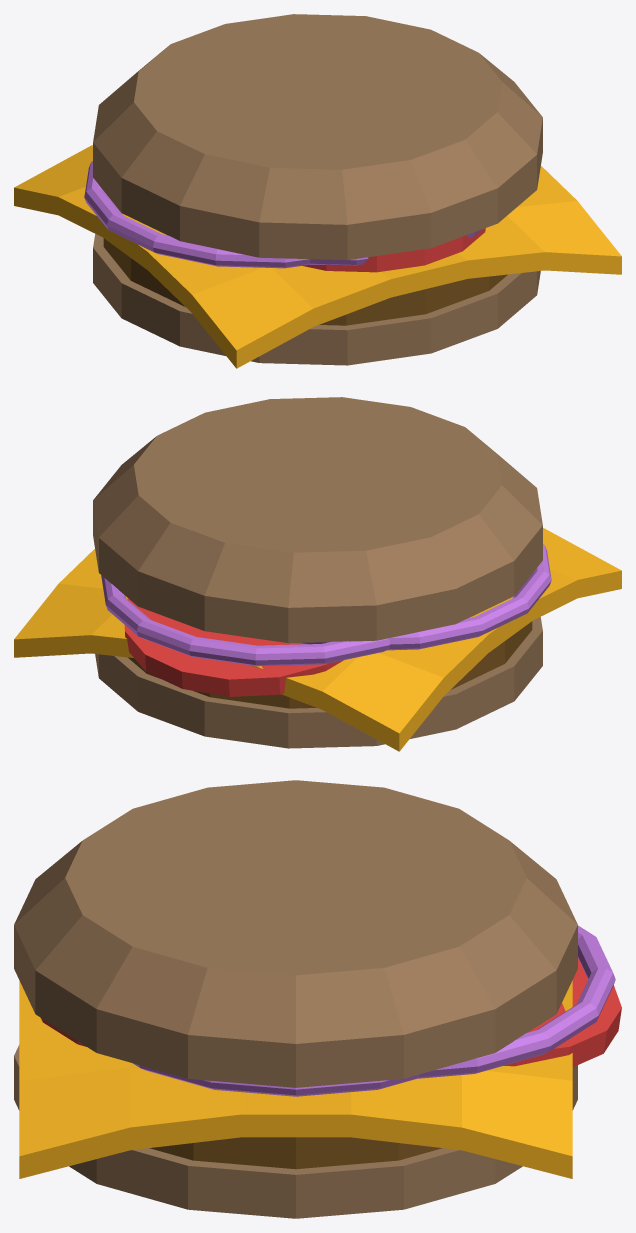
File: burger.fbx
3 views of the same model, one above another, from view 1: azimuth 30°, elevation 25°; view 2: azimuth 150°, elevation 25°; view 3: azimuth 270°, elevation 25° (orthographic). The views are drawn at different scales.
Visible parts, largest first — view 1: CheemBurbur; view 2: CheemBurbur; view 3: CheemBurbur.
Boxes of the visible parts, <box> form: CheemBurbur: <box>14,14,621,368</box>; CheemBurbur: <box>14,397,621,751</box>; CheemBurbur: <box>14,780,621,1218</box>.
Size of the model in its own units: 228 by 95.52 by 237.
